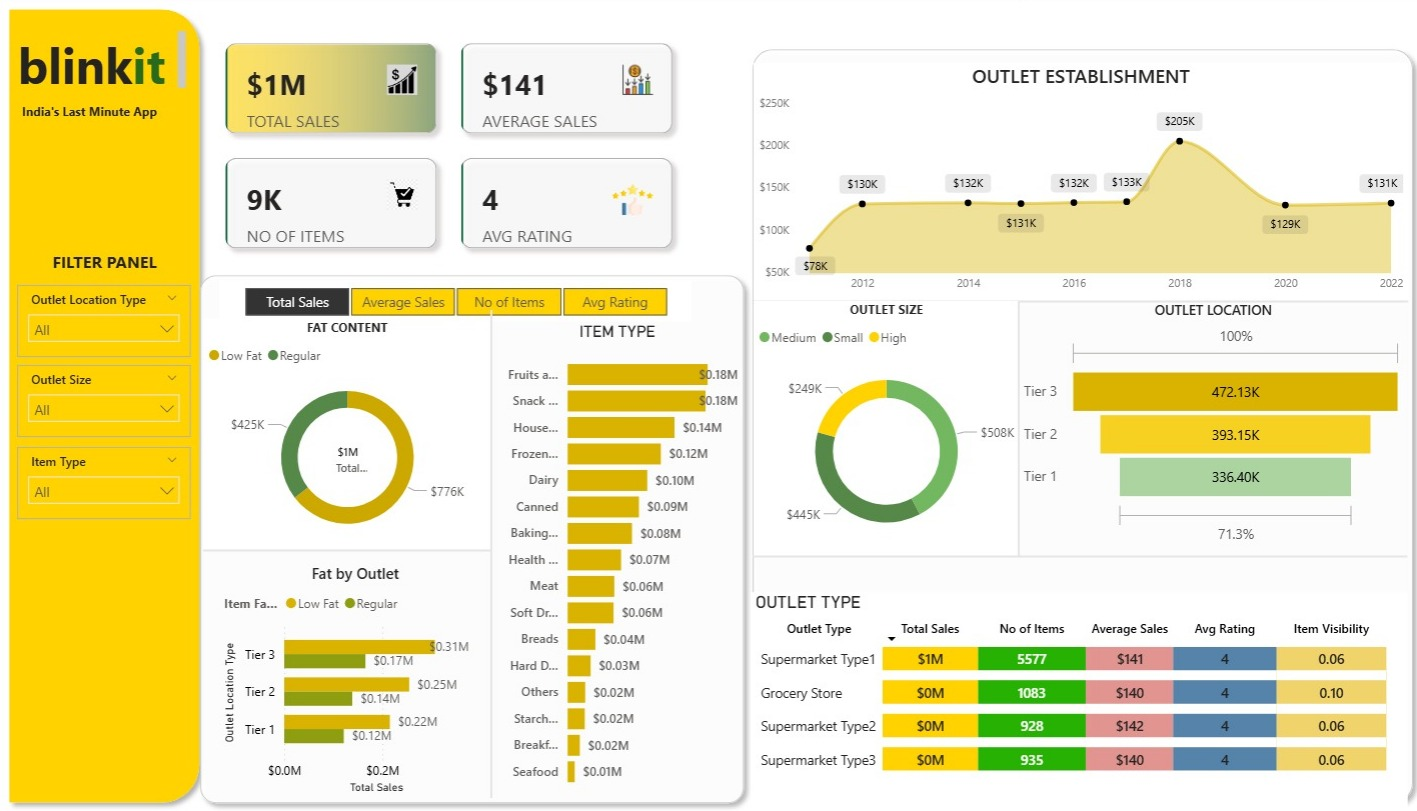

What the dashboard file says about the page in this screenshot:
{"tool":"powerbi","page":{"name":"Page 1","canvas":[1400,800],"ordinal":0},"visuals":[{"type":"shape","box":[0,0,205.3,800],"z":0},{"type":"textbox","box":[267,679.8,190.4,70.2],"z":1000},{"type":"textbox","box":[0,25.5,188.3,70.2],"z":2000},{"type":"textbox","box":[17,95.7,158.5,27.7],"z":3000},{"type":"cardVisual","fields":{"Data":["BlinkIT Grocery Data.Total Sales","BlinkIT Grocery Data.Average Sales","BlinkIT Grocery Data.No of Items","BlinkIT Grocery Data.Avg Rating"]},"box":[205.3,25.5,475.5,236.2],"z":4000},{"type":"shape","box":[188.3,261.7,553.2,538.3],"z":5000},{"type":"donutChart","title":"FAT CONTENT","fields":{"Y":["BlinkIT Grocery Data.Total Sales"],"Category":["BlinkIT Grocery Data.Item Fat Content"]},"box":[200,313.8,284,228.7],"z":6000},{"type":"slicer","fields":{"Values":["Metrics.Metrics"]},"box":[216,276.6,464.9,40.4],"z":7000},{"type":"cardVisual","fields":{"Data":["BlinkIT Grocery Data.Total Sales"]},"box":[306.4,420.2,72.3,61.7],"z":8000},{"type":"clusteredBarChart","title":"Fat by Outlet","fields":{"Y":["BlinkIT Grocery Data.Total Sales"],"Category":["BlinkIT Grocery Data.Outlet Location Type"],"Series":["BlinkIT Grocery Data.Item Fat Content"]},"box":[216,554.3,268.1,231.9],"z":9000},{"type":"barChart","title":"ITEM TYPE","fields":{"Y":["BlinkIT Grocery Data.Total Sales"],"Category":["BlinkIT Grocery Data.Item Type"]},"box":[484,317,247.9,469.1],"z":10000},{"type":"shape","box":[731.9,39.4,668.1,760.6],"z":11000},{"type":"lineChart","title":"OUTLET ESTABLISHMENT","fields":{"Category":["BlinkIT Grocery Data.Outlet Establishment Year"],"Y":["BlinkIT Grocery Data.Total Sales"]},"box":[741.5,61.7,644.7,235.1],"z":12000},{"type":"shape","box":[200,522.3,284,40.4],"z":13000},{"type":"shape","box":[741.5,276.6,644.7,40.4],"z":14000},{"type":"donutChart","title":"OUTLET SIZE","fields":{"Category":["BlinkIT Grocery Data.Outlet Size"],"Y":["BlinkIT Grocery Data.Total Sales"]},"box":[741.5,296.8,261.7,252.1],"z":15000},{"type":"shape","box":[471.3,305.3,25.5,480.9],"z":16000},{"type":"shape","box":[990.4,296.8,25.5,252.1],"z":17000},{"type":"shape","box":[1003.2,534,383,28.7],"z":18000},{"type":"funnel","title":"OUTLET LOCATION","fields":{"Y":["Sum(BlinkIT Grocery Data.Sales)"],"Category":["BlinkIT Grocery Data.Outlet Location Type"]},"box":[1003.2,296.8,383,245.7],"z":19000},{"type":"pivotTable","title":"OUTLET TYPE","fields":{"Rows":["BlinkIT Grocery Data.Outlet Type"],"Values":["BlinkIT Grocery Data.Total Sales","BlinkIT Grocery Data.No of Items","BlinkIT Grocery Data.Average Sales","BlinkIT Grocery Data.Avg Rating","Avg(BlinkIT Grocery Data.Item Visibility)"]},"box":[739.4,583,646.8,217],"z":20000},{"type":"shape","box":[740.4,534,263.8,28.7],"z":21000},{"type":"slicer","fields":{"Values":["BlinkIT Grocery Data.Outlet Location Type"]},"box":[17,280.9,171.3,71.3],"z":22000},{"type":"slicer","fields":{"Values":["BlinkIT Grocery Data.Outlet Size"]},"box":[17,359.6,171.3,71.3],"z":23000},{"type":"slicer","fields":{"Values":["BlinkIT Grocery Data.Item Type"]},"box":[17,440.4,171.3,71.3],"z":24000},{"type":"textbox","box":[41.5,242.6,123.4,34],"z":24001}]}

Visuals, with their boxes in screenshot pixels (x1, y1, x2, y2), scaled from the page's 1400x800 canvas onto the 1417x811 screenshot:
shape: [left=0, top=0, right=208, bottom=810]
textbox: [left=270, top=689, right=463, bottom=760]
textbox: [left=0, top=26, right=191, bottom=97]
textbox: [left=17, top=97, right=178, bottom=125]
cardVisual - BlinkIT Grocery Data.Total Sales x BlinkIT Grocery Data.Average Sales: [left=208, top=26, right=689, bottom=265]
shape: [left=191, top=265, right=751, bottom=810]
"FAT CONTENT" donutChart: [left=202, top=318, right=490, bottom=550]
slicer - Metrics.Metrics: [left=219, top=280, right=689, bottom=321]
cardVisual - BlinkIT Grocery Data.Total Sales: [left=310, top=426, right=383, bottom=489]
"Fat by Outlet" clusteredBarChart: [left=219, top=562, right=490, bottom=797]
"ITEM TYPE" barChart: [left=490, top=321, right=741, bottom=797]
shape: [left=741, top=40, right=1416, bottom=810]
"OUTLET ESTABLISHMENT" lineChart: [left=751, top=63, right=1403, bottom=301]
shape: [left=202, top=529, right=490, bottom=570]
shape: [left=751, top=280, right=1403, bottom=321]
"OUTLET SIZE" donutChart: [left=751, top=301, right=1015, bottom=556]
shape: [left=477, top=309, right=503, bottom=797]
shape: [left=1002, top=301, right=1028, bottom=556]
shape: [left=1015, top=541, right=1403, bottom=570]
"OUTLET LOCATION" funnel: [left=1015, top=301, right=1403, bottom=550]
"OUTLET TYPE" pivotTable: [left=748, top=591, right=1403, bottom=810]
shape: [left=749, top=541, right=1016, bottom=570]
slicer - BlinkIT Grocery Data.Outlet Location Type: [left=17, top=285, right=191, bottom=357]
slicer - BlinkIT Grocery Data.Outlet Size: [left=17, top=365, right=191, bottom=437]
slicer - BlinkIT Grocery Data.Item Type: [left=17, top=446, right=191, bottom=519]
textbox: [left=42, top=246, right=167, bottom=280]
